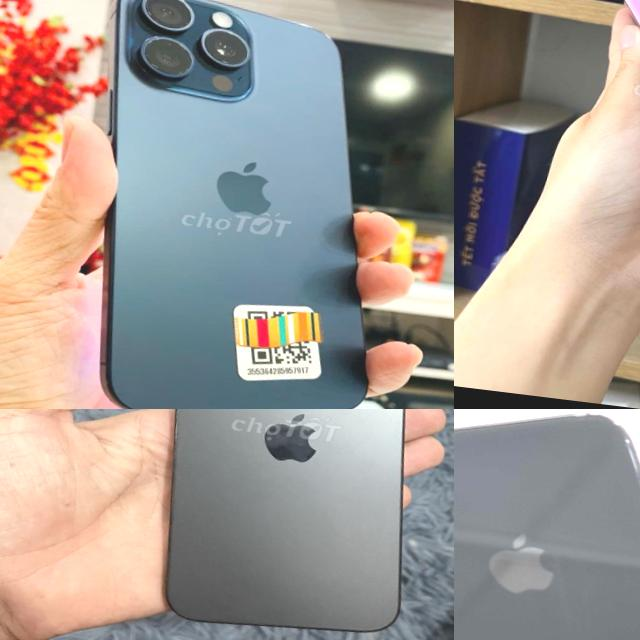gen_15: (53, 0, 423, 409), (119, 409, 454, 640)
gen_16: (560, 0, 640, 257)
gen_x_xs: (454, 415, 640, 640)
